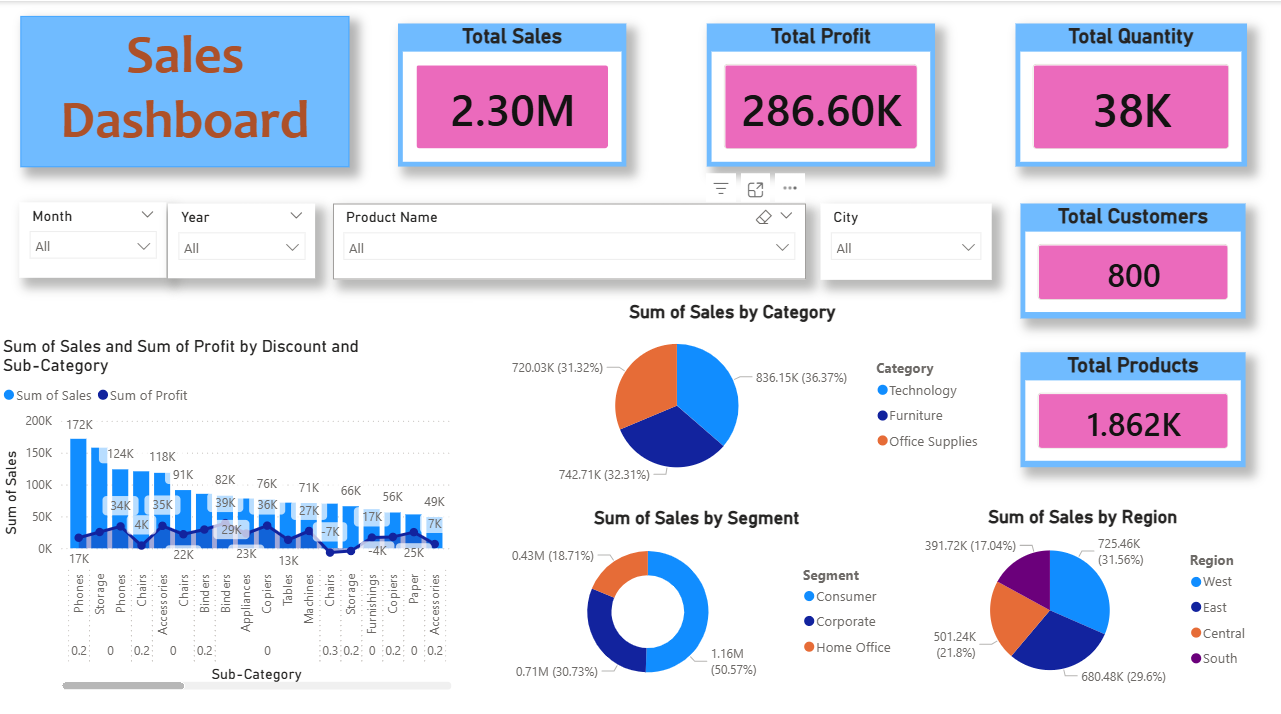

The page's visual inventory and layout, read from the dashboard file:
{"tool":"powerbi","page":{"name":"Page 1","canvas":[1280,720],"ordinal":0},"visuals":[{"type":"textbox","box":[22.5,15,327.5,150],"z":0},{"type":"cardVisual","title":"Total Profit","fields":{"Data":["Sales Overview Data xlsx - Sales Data.Total profit"]},"box":[705,22.5,227.5,142.5],"z":1000},{"type":"cardVisual","title":"Total Customers","fields":{"Data":["Sales Overview Data xlsx - Sales Data.Total Customers"]},"box":[1018,202,224,114],"z":2000},{"type":"slicer","fields":{"Values":["Sales Overview Data xlsx - Sales Data.Order Date.Variation.Date Hierarchy.Month"]},"box":[21.7,200,146.7,75],"z":3000},{"type":"slicer","fields":{"Values":["Sales Overview Data xlsx - Sales Data.Order Date.Variation.Date Hierarchy.Year"]},"box":[168.9,201.1,146.7,74.4],"z":4000},{"type":"slicer","fields":{"Values":["Sales Overview Data xlsx - Sales Data.Product Name"]},"box":[334,202,470,76],"z":5000},{"type":"slicer","fields":{"Values":["Sales Overview Data xlsx - Sales Data.City"]},"box":[818,202,170,76],"z":6000},{"type":"cardVisual","title":"Total Sales","fields":{"Data":["Sales Overview Data xlsx - Sales Data.Total Sales"]},"box":[397.5,22.5,227.5,142.5],"z":7000},{"type":"cardVisual","title":"Total Quantity","fields":{"Data":["Sales Overview Data xlsx - Sales Data.Total Quantity"]},"box":[1012.5,22.5,230,142.5],"z":8000},{"type":"cardVisual","title":"Total Products","fields":{"Data":["Count(Sales Overview Data xlsx - Sales Data.Product ID)"]},"box":[1018,350,224,114],"z":9000},{"type":"pieChart","fields":{"Category":["Sales Overview Data xlsx - Sales Data.Category"],"Y":["Sum(Sales Overview Data xlsx - Sales Data.Sales)"]},"box":[472.7,298.6,516.2,187.8],"z":10000},{"type":"pieChart","fields":{"Y":["Sum(Sales Overview Data xlsx - Sales Data.Sales)"],"Category":["Sales Overview Data xlsx - Sales Data.Region"]},"box":[902.9,502.9,352.9,187.1],"z":11000},{"type":"donutChart","fields":{"Y":["Sum(Sales Overview Data xlsx - Sales Data.Sales)"],"Category":["Sales Overview Data xlsx - Sales Data.Segment"]},"box":[487.7,503.5,415.5,187.6],"z":12000},{"type":"lineClusteredColumnComboChart","fields":{"Y":["Sum(Sales Overview Data xlsx - Sales Data.Sales)"],"Y2":["Sum(Sales Overview Data xlsx - Sales Data.Profit)"],"Category":["Sales Overview Data xlsx - Sales Data.Discount","Sales Overview Data xlsx - Sales Data.Sub-Category"]},"box":[0,333.4,456.5,357],"z":13000}]}

Visuals, with their boxes in screenshot pixels (x1, y1, x2, y2), scaled from the page's 1280x720 canvas onto the 1281x714 screenshot:
textbox: [23,15,350,164]
"Total Profit" cardVisual: [706,22,933,164]
"Total Customers" cardVisual: [1019,200,1243,313]
slicer - Sales Overview Data xlsx - Sales Data.Order Date.Variation.Date Hierarchy.Month: [22,198,169,273]
slicer - Sales Overview Data xlsx - Sales Data.Order Date.Variation.Date Hierarchy.Year: [169,199,316,273]
slicer - Sales Overview Data xlsx - Sales Data.Product Name: [334,200,805,276]
slicer - Sales Overview Data xlsx - Sales Data.City: [819,200,989,276]
"Total Sales" cardVisual: [398,22,625,164]
"Total Quantity" cardVisual: [1013,22,1243,164]
"Total Products" cardVisual: [1019,347,1243,460]
pieChart - Sales Overview Data xlsx - Sales Data.Category x Sum(Sales Overview Data xlsx - Sales Data.Sales): [473,296,990,482]
pieChart - Sum(Sales Overview Data xlsx - Sales Data.Sales) x Sales Overview Data xlsx - Sales Data.Region: [904,499,1257,684]
donutChart - Sum(Sales Overview Data xlsx - Sales Data.Sales) x Sales Overview Data xlsx - Sales Data.Segment: [488,499,904,685]
lineClusteredColumnComboChart - Sum(Sales Overview Data xlsx - Sales Data.Sales) x Sum(Sales Overview Data xlsx - Sales Data.Profit): [0,331,457,685]
